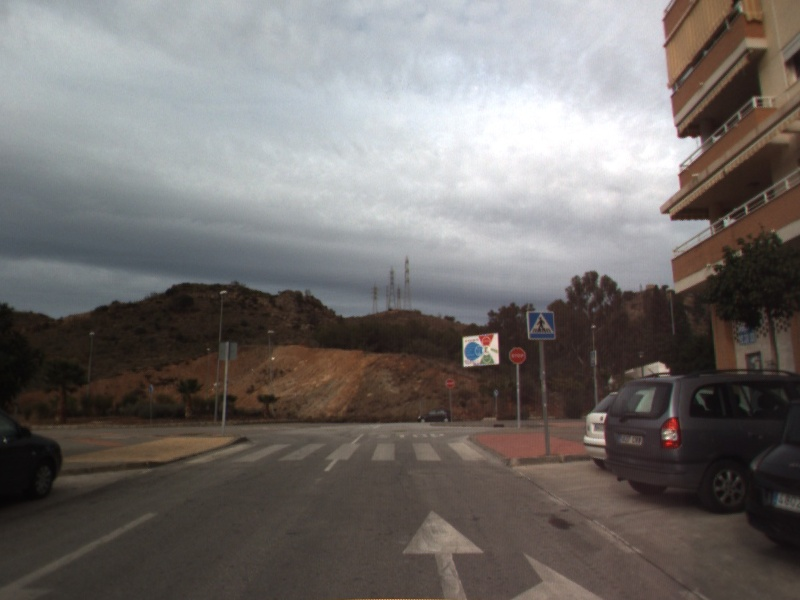STRAIGHT_RIGHT: (399, 506, 609, 600)
